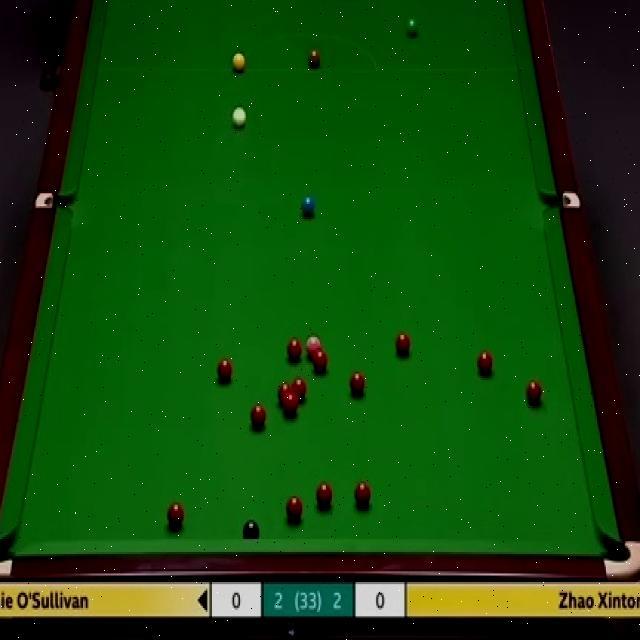black-ball: (242, 520, 260, 540)
blue-ball: (299, 191, 316, 219)
brown-ball: (308, 49, 320, 68)
green-ball: (403, 18, 420, 38)
pink-ball: (307, 336, 322, 359)
red-ball: (394, 330, 412, 360), (526, 379, 542, 409), (167, 501, 184, 529), (354, 480, 371, 508), (476, 350, 494, 376), (316, 482, 333, 509), (217, 360, 234, 386), (287, 495, 303, 522), (349, 370, 365, 397), (292, 378, 307, 404), (250, 404, 266, 428), (312, 349, 328, 372), (278, 382, 292, 404), (284, 396, 298, 416), (288, 341, 302, 361)
white-ball: (230, 104, 248, 133)
yellow-ball: (231, 50, 246, 72)
